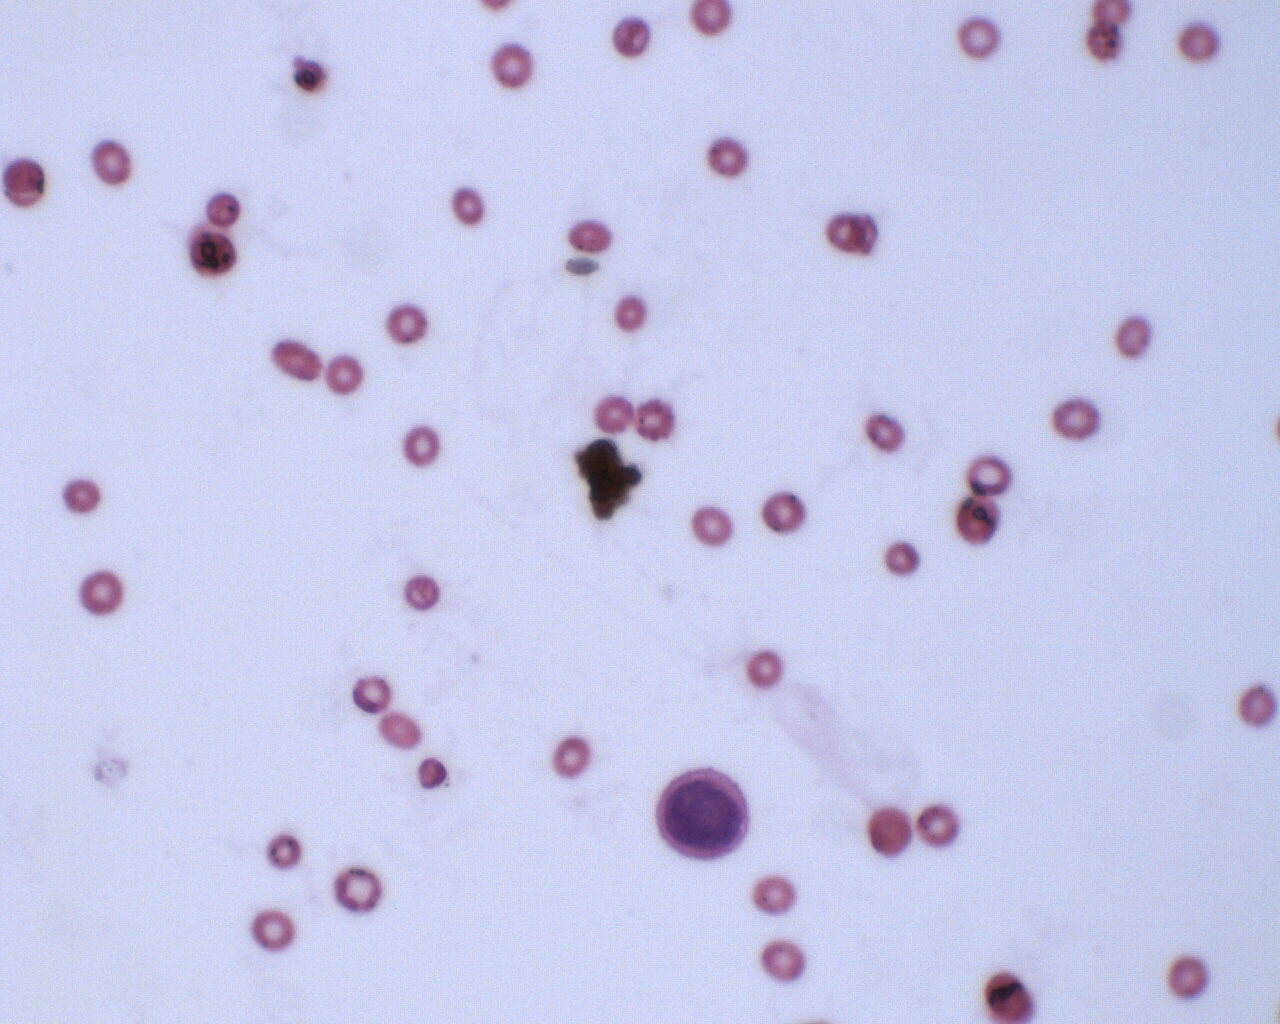ab: (646, 762, 759, 868)
